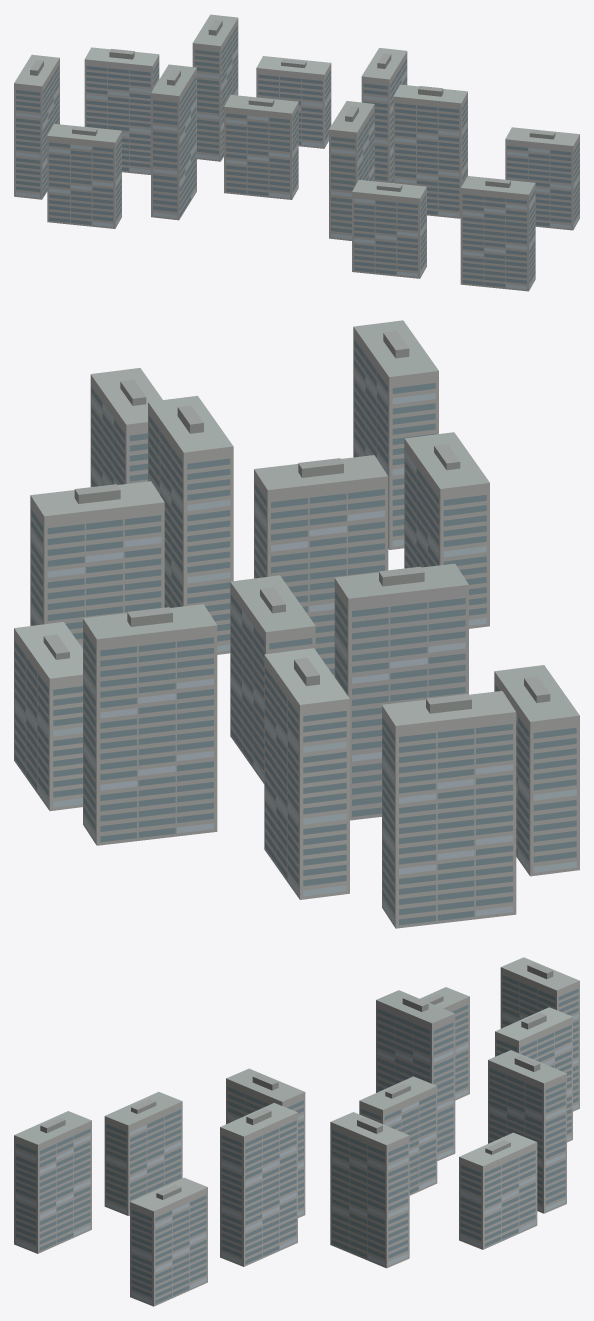
File: apt-a13671204.glb
3 renders of one model, top to bottom at view 1: azimuth 30°, elevation 25°; view 2: azimuth 150°, elevation 25°; view 3: azimuth 270°, elevation 25°, orthographic. The views are drawn at different scales.
Visible parts, largest first — view 1: apt-a13671204; view 2: apt-a13671204; view 3: apt-a13671204.
Part boxes in pixels (left/top/right/bottom): apt-a13671204: left=14, top=14, right=579, bottom=291; apt-a13671204: left=14, top=320, right=579, bottom=928; apt-a13671204: left=14, top=957, right=579, bottom=1306.
Size of the model in its own units: 196 by 60 by 211.
